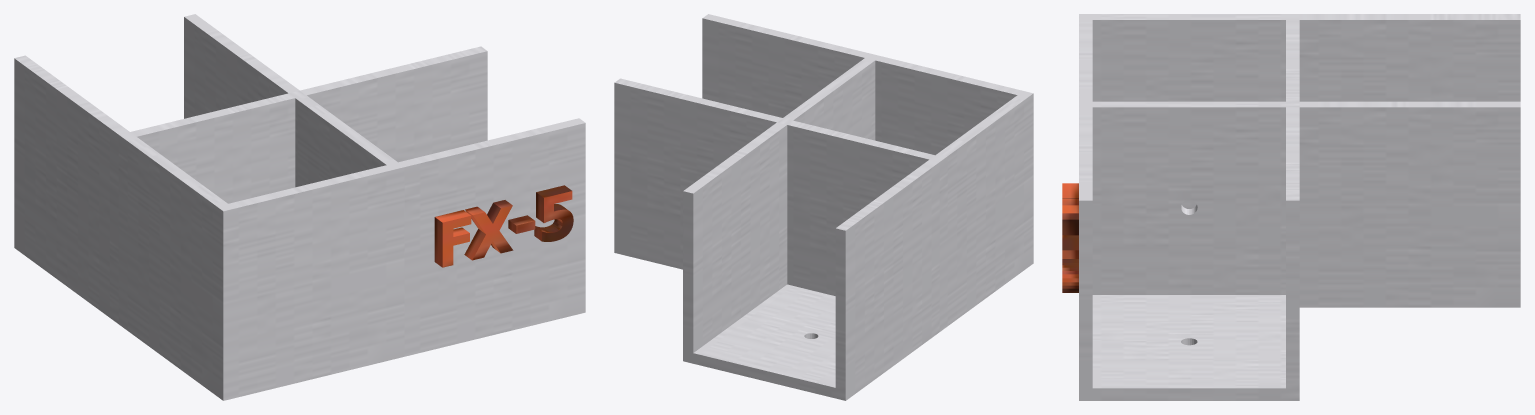
Rendered from FLEX MINI FX 5.glb.
3 renders of one model, left to right at view 1: azimuth 30°, elevation 25°; view 2: azimuth 150°, elevation 25°; view 3: azimuth 270°, elevation 25°, orthographic. The views are drawn at different scales.
Visible parts, largest first — view 1: G-Object.001, G-Object.002, G-Object, C-FX-5; view 2: G-Object, G-Object.001, G-Object.002; view 3: G-Object, G-Object.001, G-Object.002, C-FX-5.
Part boxes in pixels (x1,y1,x2,y2): G-Object.001: (118, 90, 404, 400); G-Object.002: (300, 46, 585, 356); G-Object: (14, 14, 299, 323); C-FX-5: (434, 185, 573, 267); G-Object: (683, 122, 939, 400); G-Object.001: (777, 53, 1033, 331); G-Object.002: (614, 14, 870, 269); G-Object: (1299, 14, 1520, 307); G-Object.001: (1079, 14, 1299, 294); G-Object.002: (1079, 107, 1299, 400); C-FX-5: (1062, 183, 1078, 292).
Bounding box in the file's own units: 0.08 × 0.04 × 0.083.
Materials: 2 (2 with a texture image).
